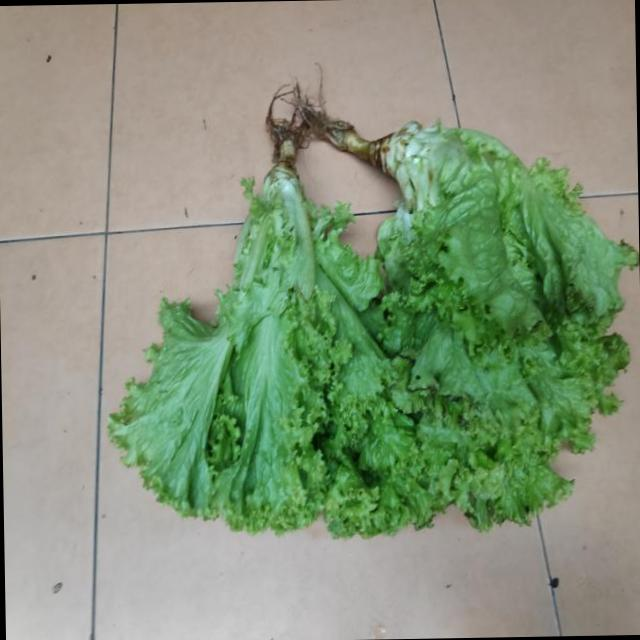Lettuce-Ready-to-Harvest: (309, 123, 639, 534), (108, 162, 337, 531), (520, 321, 531, 326)
